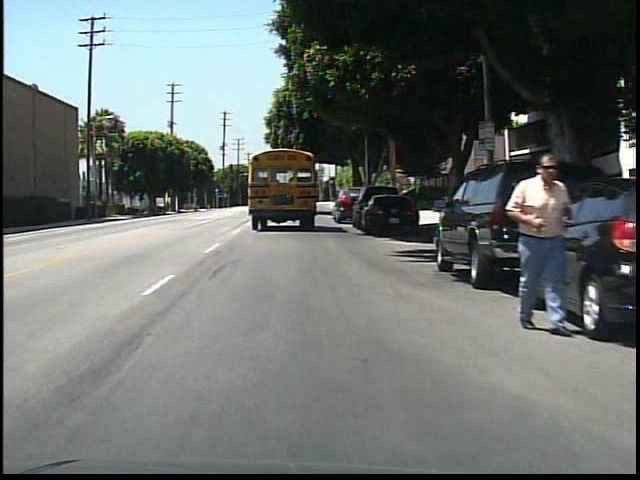person: (498, 146, 572, 339)
